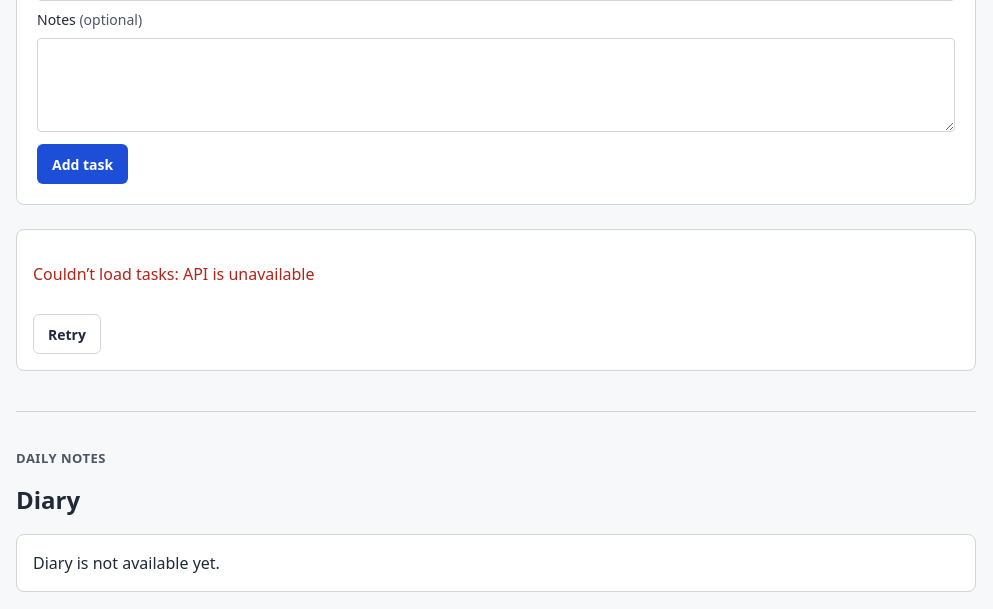
Test: task dashboard › shows a retrieval error and retries without treating failure as empty
(page scrolled)
Expected: the text "Couldn’t load tasks: API is unavailable" is shown, [33,262,314,286]
Expected: the text "No tasks yet. Add a task to get started." is not shown
What coordinates should you click on to do the following:
click the button "Retry"
I would click on:
 (67, 334)
Its box is [33,314,101,354].
(page scrolled)
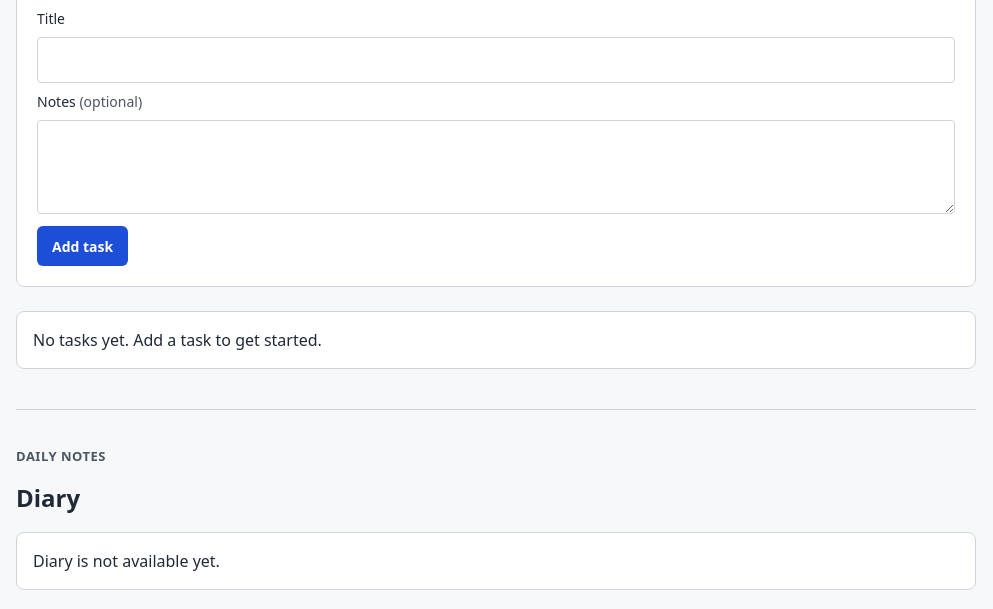
Expected: the text "No tasks yet. Add a task to get started." is shown, [16,311,976,369]
